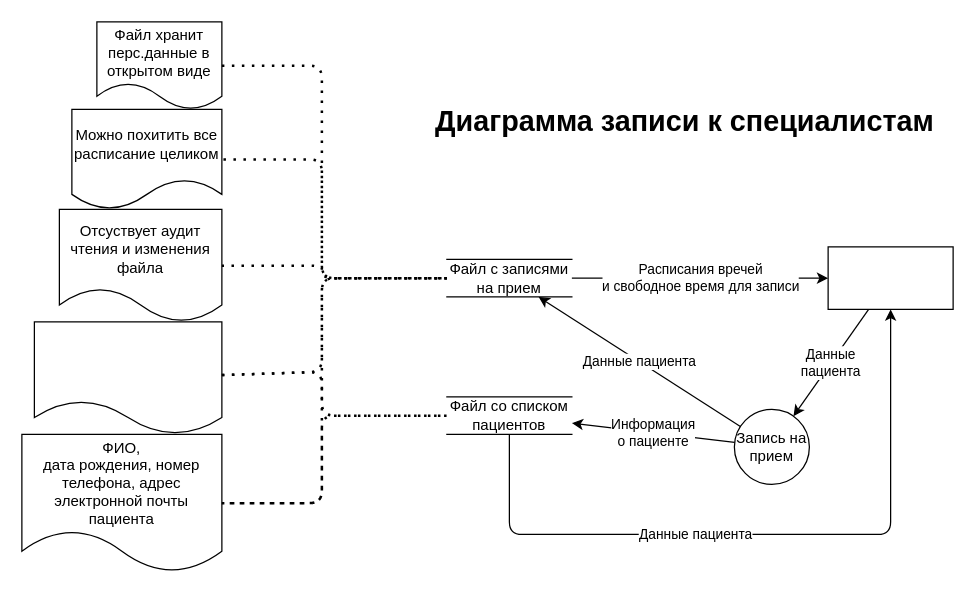
This 975x594 diagram has some shape labels left out. The shapes that lost their labels are listed below. From the top down, each one's centre as x and y in pixels, then its label:
the point at 890,277: Ресепшн
the point at 127,377: Файл не защищен от изменения другими сотрудниками
